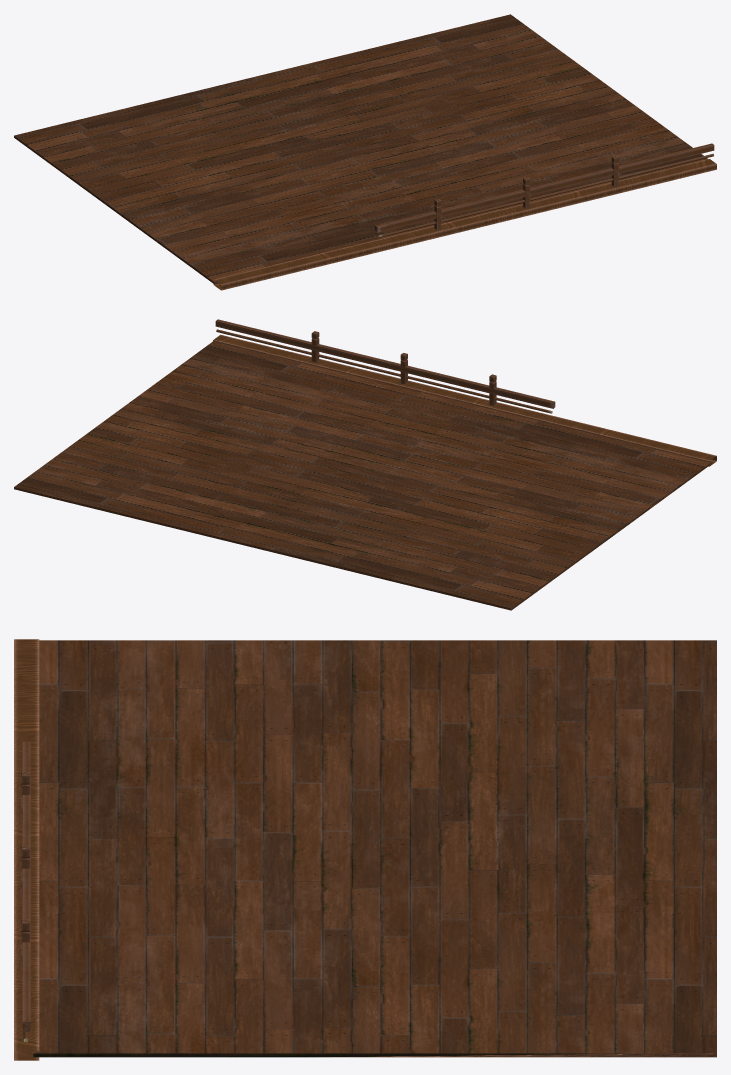
The model's file is Floor_Out_JP_Part3.fbx.
3 renders of one model, top to bottom at view 1: azimuth 30°, elevation 25°; view 2: azimuth 150°, elevation 25°; view 3: azimuth 270°, elevation 25°, orthographic. The views are drawn at different scales.
Parts seen in each view (by area): view 1: Floor_JP_Part3_LOD0; view 2: Floor_JP_Part3_LOD0; view 3: Floor_JP_Part3_LOD0.
Part boxes in pixels (x1=…): Floor_JP_Part3_LOD0: x1=14, y1=14, x2=716, y2=290; Floor_JP_Part3_LOD0: x1=14, y1=319, x2=716, y2=610; Floor_JP_Part3_LOD0: x1=14, y1=639, x2=716, y2=1060.
Size of what is drawn, in the model's own units: 841 by 55.34 by 605.
